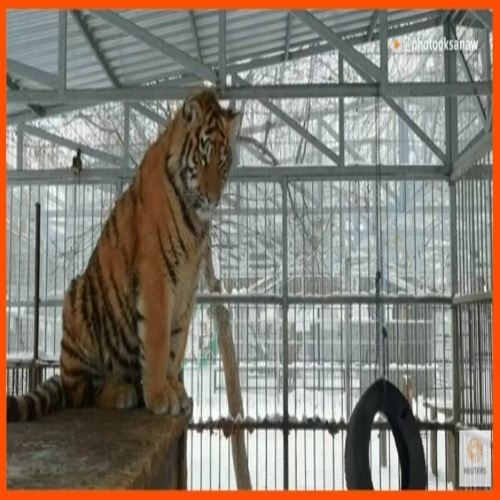tiger: (67, 69, 249, 440)
